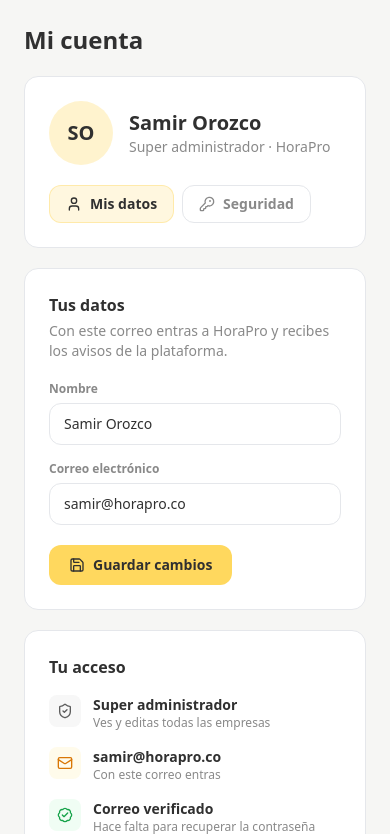
Test: AdminCuenta › cambia la contraseña y NO deja los campos escritos después
Click the button "Seguridad".
click(247, 204)  # box x1=182 y1=185 x2=311 y2=223
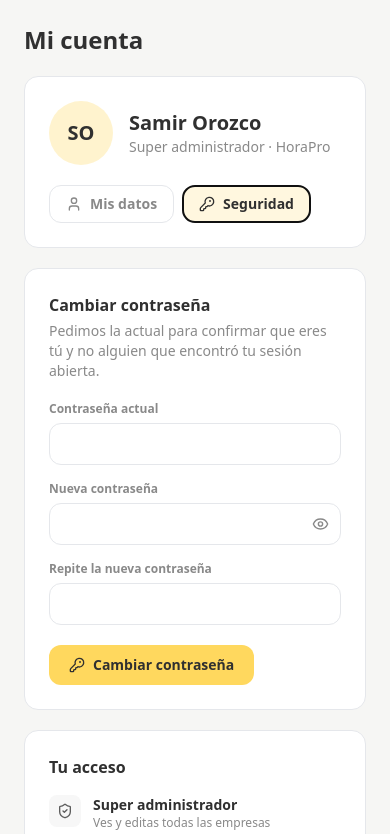
Type "laDeAhora" into the password field labelled "Contraseña actual".
click(195, 444); type("laDeAhora")  # box x1=49 y1=423 x2=341 y2=465
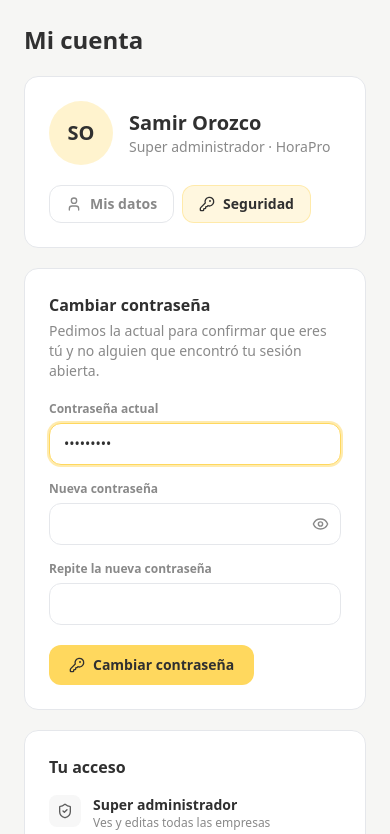
Type "nuevaClave1" into the password field labelled "Nueva contraseña".
click(195, 524); type("nuevaClave1")  # box x1=49 y1=503 x2=341 y2=545
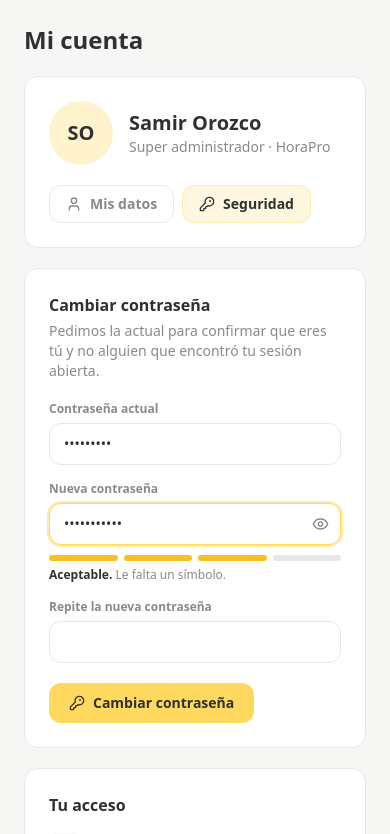
Type "nuevaClave1" into the password field labelled "Repite la nueva contraseña".
click(195, 642); type("nuevaClave1")  # box x1=49 y1=621 x2=341 y2=663
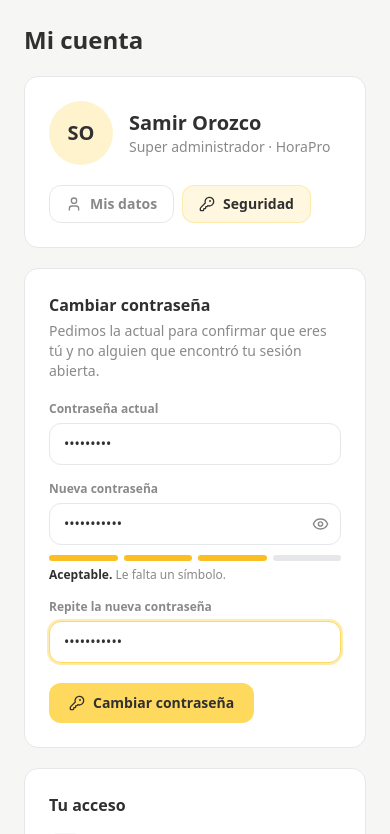
Click the button "Cambiar contraseña".
click(152, 703)  # box x1=49 y1=683 x2=254 y2=723
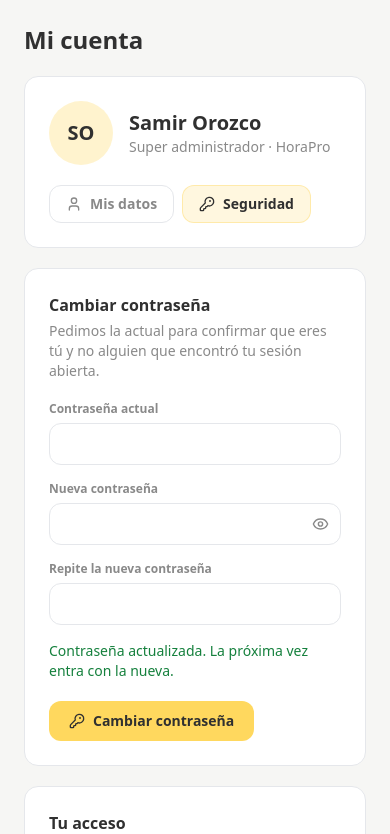
expect the text "Contraseña actualizada. La próxima vez entra con la nueva." is shown: met, box x1=49 y1=641 x2=341 y2=681
expect the password field labelled "Contraseña actual" is empty: met, box x1=49 y1=423 x2=341 y2=465
